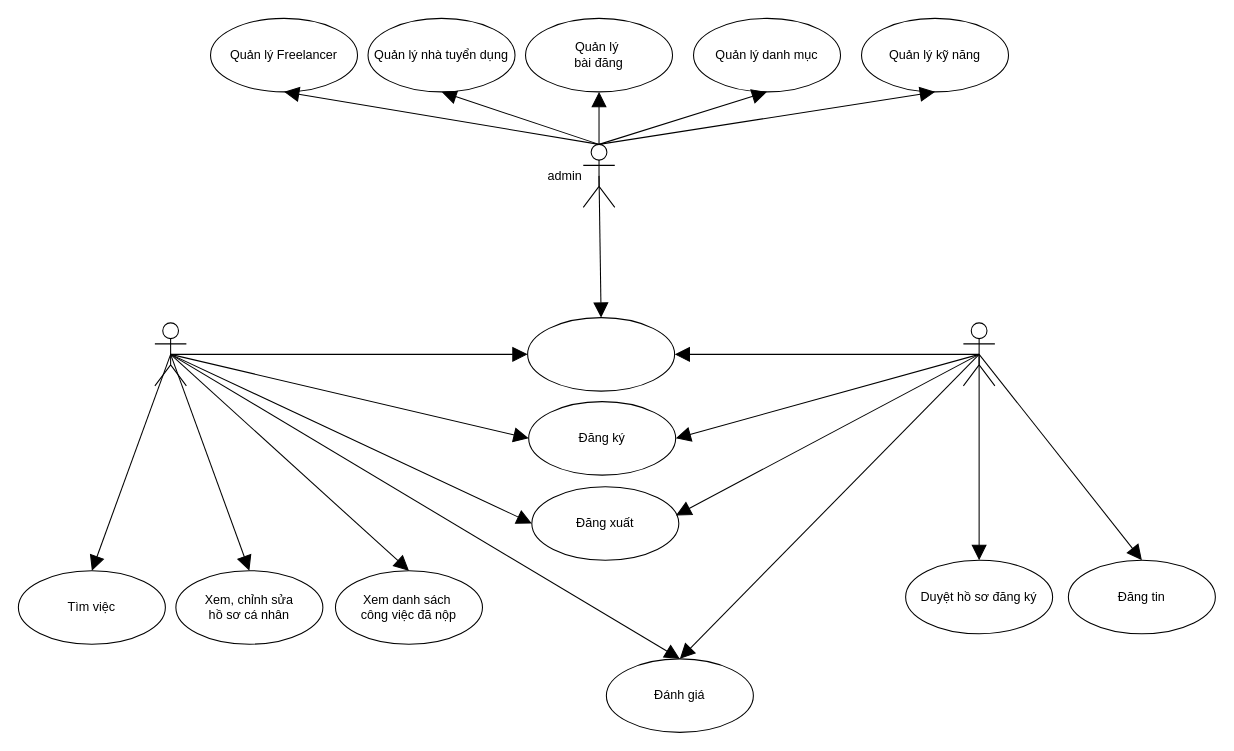
This 1234x751 diagram has some shape labels left out. Each missing label, with the box of its shape:
freelancer: (154, 322, 186, 386)
nhà tuyển dụng: (962, 322, 995, 386)
Đăng nhập: (527, 317, 675, 391)
